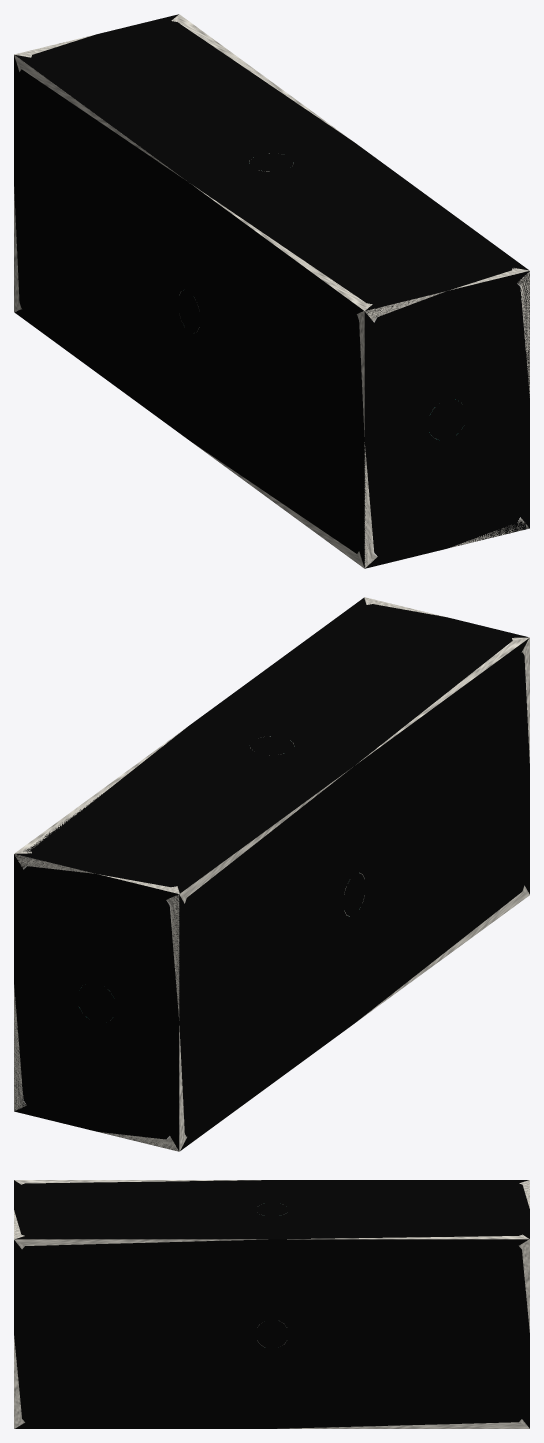
3 renders of one model, top to bottom at view 1: azimuth 30°, elevation 25°; view 2: azimuth 150°, elevation 25°; view 3: azimuth 270°, elevation 25°, orthographic. The views are drawn at different scales.
Visible parts, largest first — view 1: 1_object3baseaura1, 1_object3baseb1; view 2: 1_object3baseaura1, 1_object3baseb1; view 3: 1_object3baseaura1, 1_object3baseb1.
Part boxes in pixels (x1=…): 1_object3baseaura1: x1=14, y1=14, x2=529, y2=568; 1_object3baseb1: x1=14, y1=14, x2=529, y2=568; 1_object3baseaura1: x1=14, y1=597, x2=529, y2=1150; 1_object3baseb1: x1=14, y1=597, x2=529, y2=1151; 1_object3baseaura1: x1=14, y1=1180, x2=529, y2=1428; 1_object3baseb1: x1=14, y1=1180, x2=529, y2=1428.
Size of the model in its own units: 9.45 by 14.08 by 34.73.
3 materials, 3 textured.
